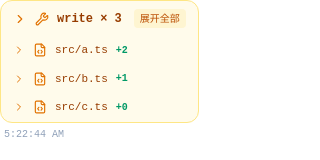
FileToolGroupCard 文件列表 › 点击总控按钮展开全部文件，再点收起全部
Click the button "展开全部": (160, 18) x1=134 y1=9 x2=186 y2=28
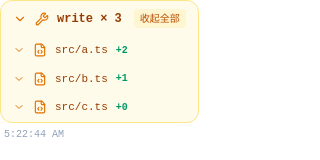
expect the button "收起全部" is shown: met
expect the button with test id "tool-group-header" shows "收起全部": met, box x1=13 y1=9 x2=186 y2=28
Click the button "收起全部": (160, 18) x1=134 y1=9 x2=186 y2=28
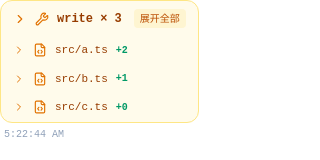
expect the button "展开全部" is shown: met, box x1=134 y1=9 x2=186 y2=28
